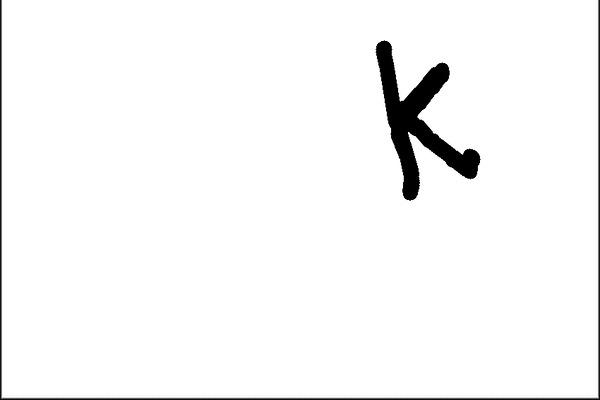K: (367, 33, 487, 204)
